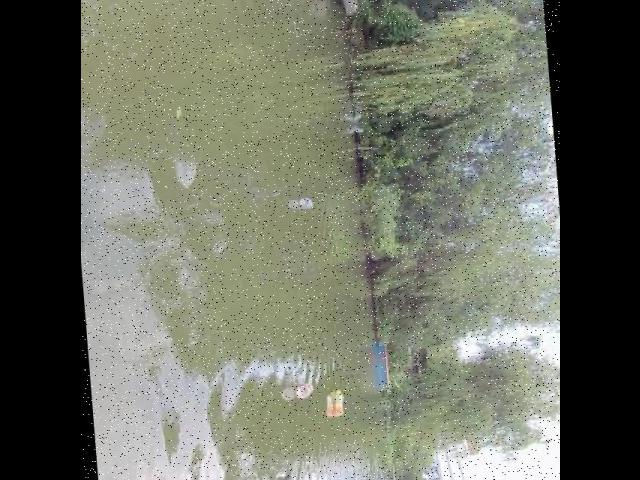Bottle: (324, 389, 349, 422), (290, 188, 316, 216), (290, 380, 316, 403)
